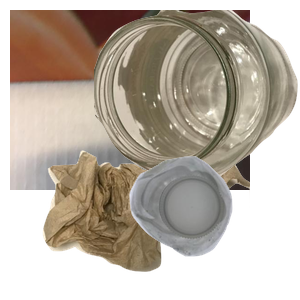cardboard: (10, 10, 250, 190)
glass: (94, 10, 300, 184)
plastic: (127, 154, 300, 300)
trash: (40, 138, 280, 300)
